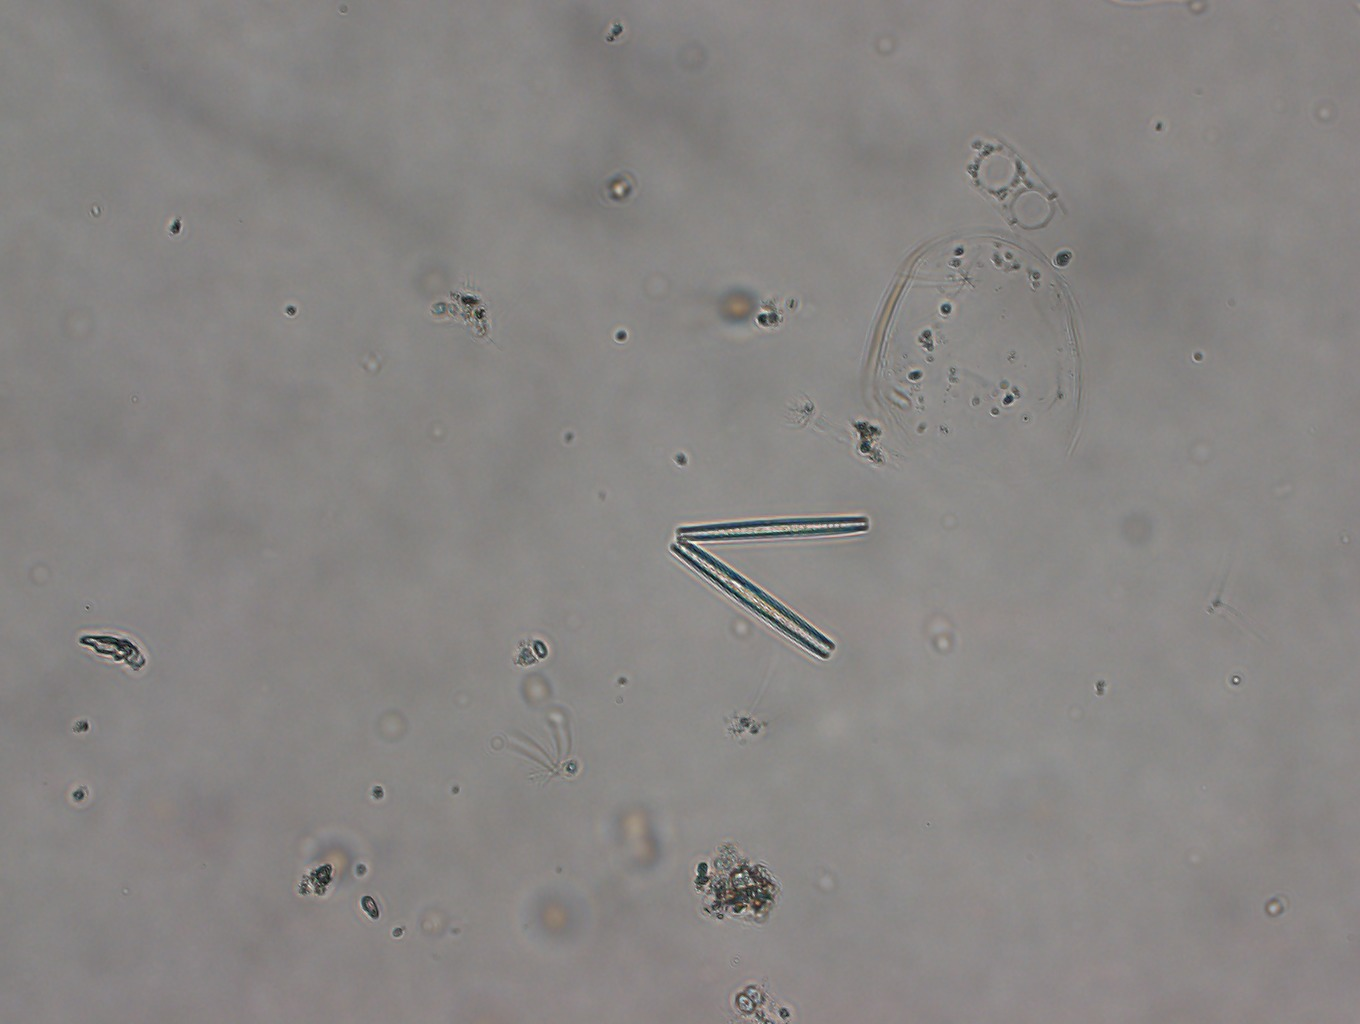eucampia: (948, 118, 1075, 248)
thalassionema nitzschioides: (659, 499, 877, 666)
